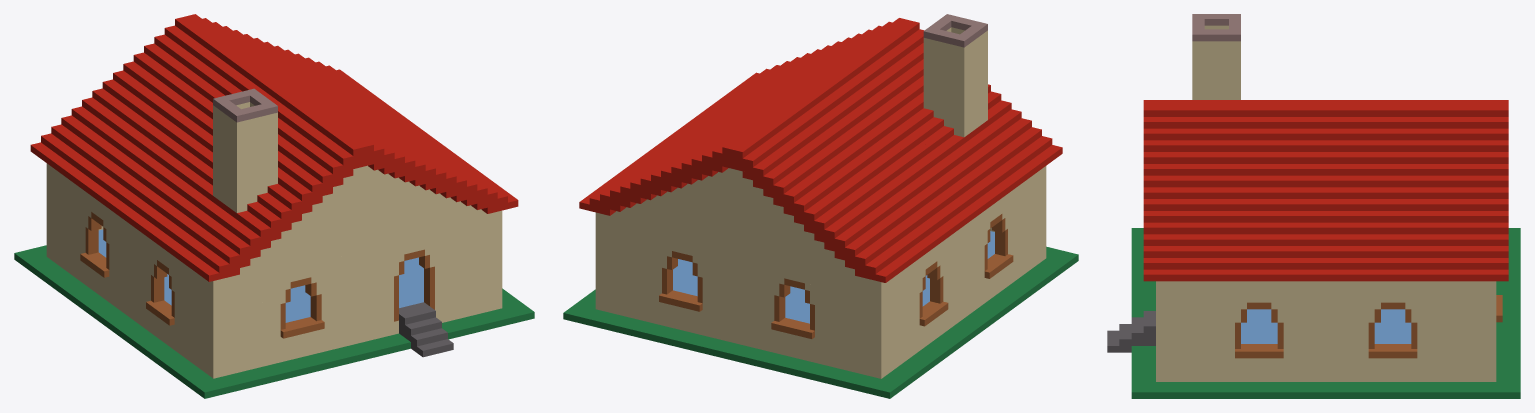
Rendered from house.glb.
3 views of the same model, side by side, from view 1: azimuth 30°, elevation 25°; view 2: azimuth 150°, elevation 25°; view 3: azimuth 270°, elevation 25° (orthographic). The views are drawn at different scales.
Visible parts, largest first — view 1: classic_house_obj_cleaner_materialmerger_gles; view 2: classic_house_obj_cleaner_materialmerger_gles; view 3: classic_house_obj_cleaner_materialmerger_gles.
Part boxes in pixels (<box>): classic_house_obj_cleaner_materialmerger_gles: <box>14,14,534,398</box>; classic_house_obj_cleaner_materialmerger_gles: <box>563,14,1078,398</box>; classic_house_obj_cleaner_materialmerger_gles: <box>1107,14,1520,398</box>.
Bounding box in the file's own units: 4.21 × 3 × 4.47.
